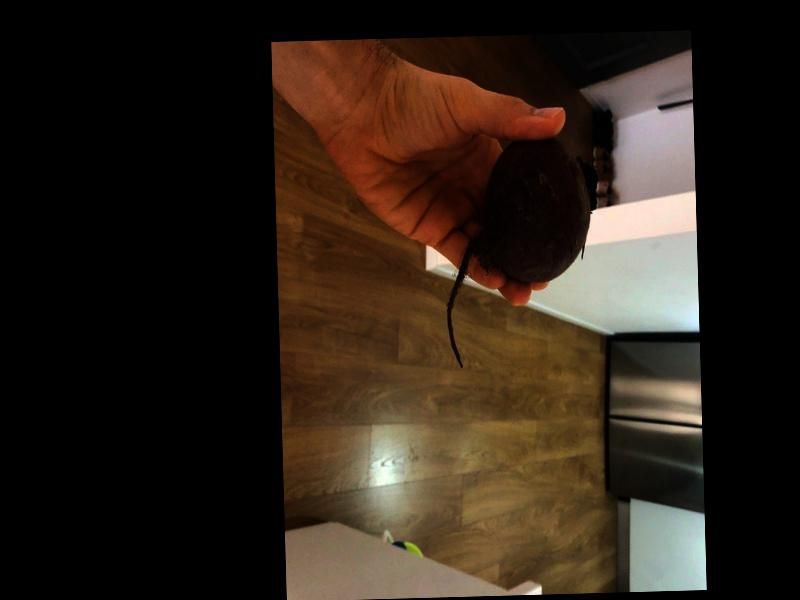Beet: (442, 137, 601, 368)
